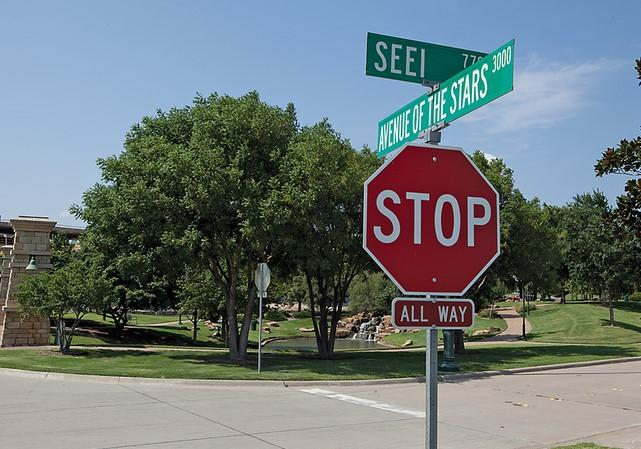Pole: (425, 329, 437, 445), (259, 300, 262, 373)
Sign: (364, 145, 501, 294), (253, 265, 271, 290)
